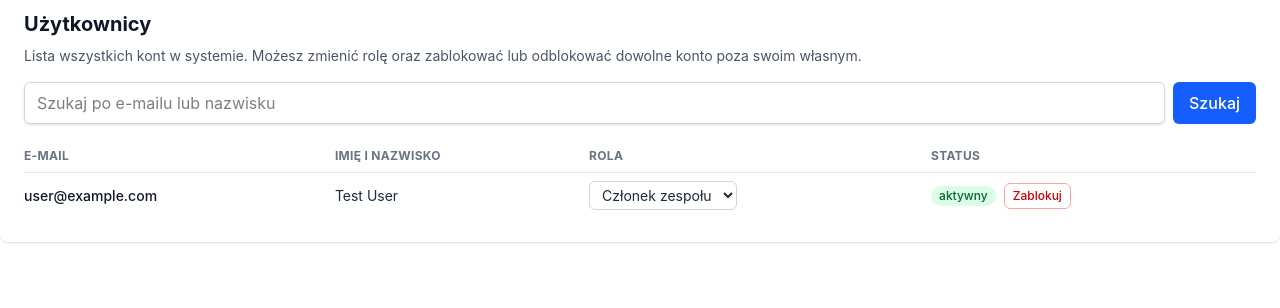
Scenario: UsersPanel — zmiana statusu › przywraca poprzedni status i pokazuje błąd, gdy żądanie się nie powiedzie
Click the button with aria-label "Zablokuj użytkownika user@example.com" at [1037, 196], box [1004,182,1071,208]
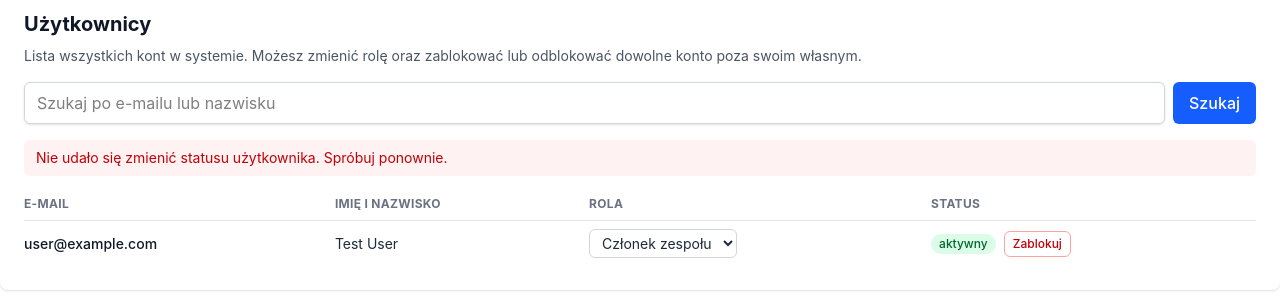
Expected: the text "aktywny" is shown, [931,234,996,254]
Expected: the text "Nie udało się zmienić statusu użytkownika. Spróbuj ponownie." is shown, [24,140,1256,176]
